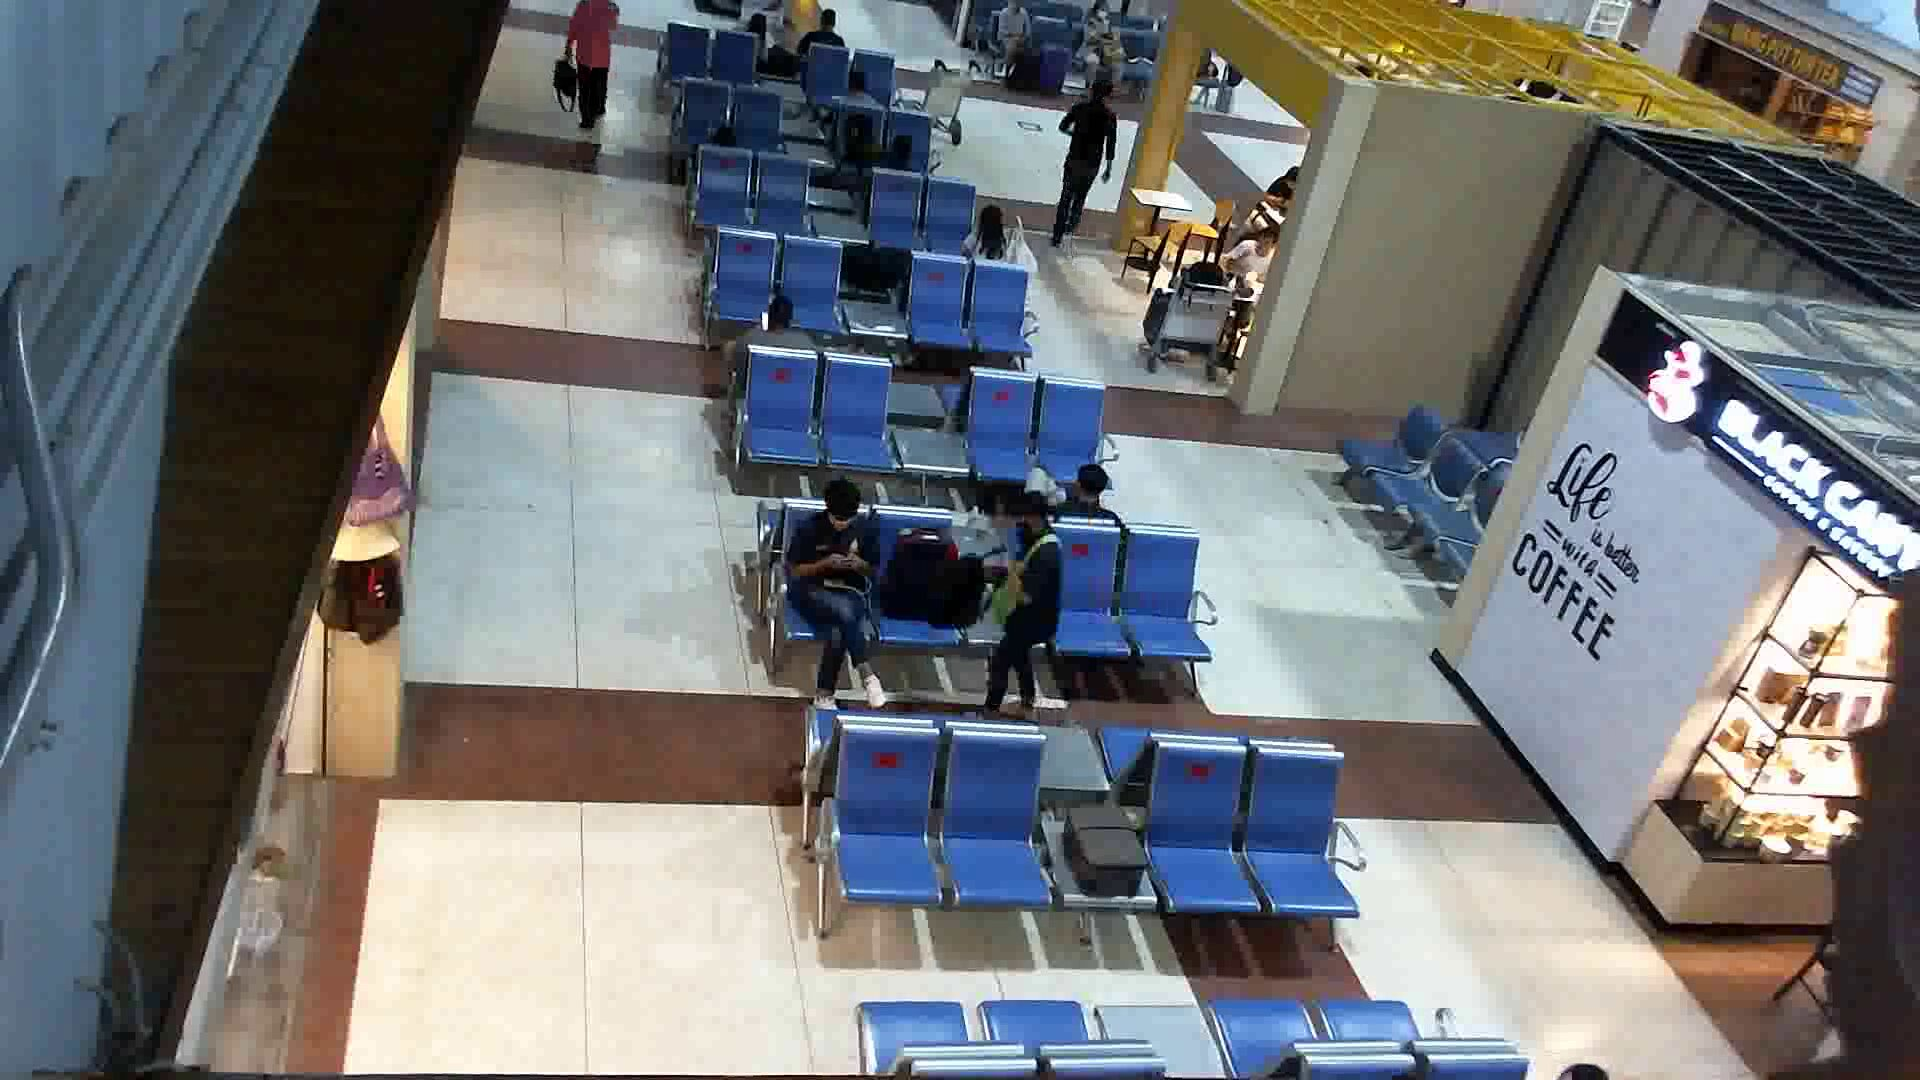bag: (541, 54, 590, 115)
luggage: (1049, 802, 1159, 908), (888, 524, 962, 617)
people: (783, 475, 903, 724), (967, 486, 1075, 753), (1038, 67, 1128, 249), (549, 1, 632, 137)
